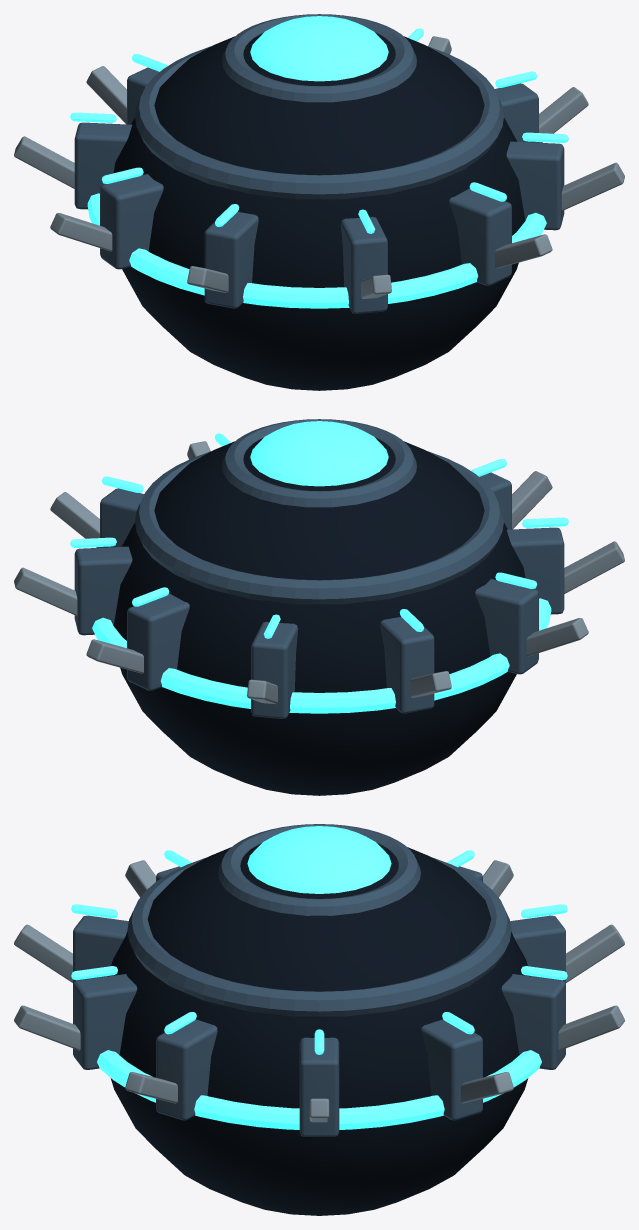
Rendered from mine.glb.
The picture shows the model from 3 angles, top to bottom: view 1: azimuth 30°, elevation 25°; view 2: azimuth 150°, elevation 25°; view 3: azimuth 270°, elevation 25°; orthographic projection. The views are drawn at different scales.
Parts seen in each view (by area): view 1: Sphere; view 2: Sphere; view 3: Sphere.
Part boxes in pixels (x1=…): Sphere: x1=14, y1=14, x2=624, y2=390; Sphere: x1=14, y1=419, x2=624, y2=795; Sphere: x1=14, y1=824, x2=624, y2=1215.
Size of the model in its own units: 1.94 by 1.19 by 1.86.
